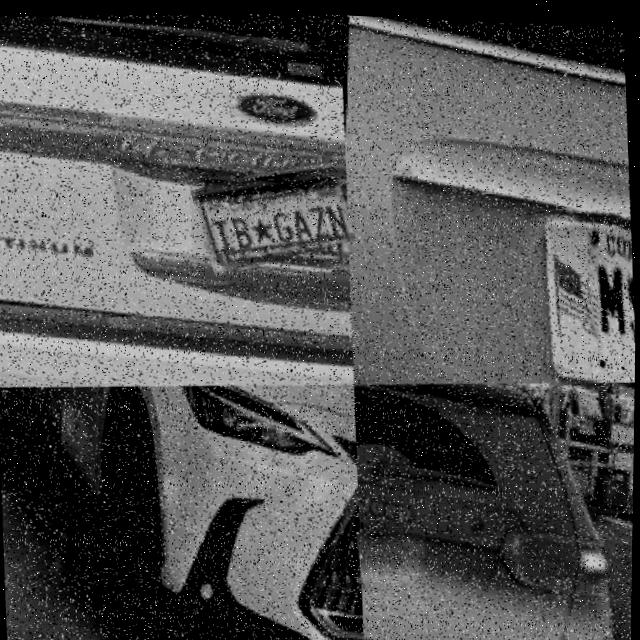LicensePlate: (541, 205, 636, 372), (191, 165, 356, 260), (357, 527, 428, 579)
